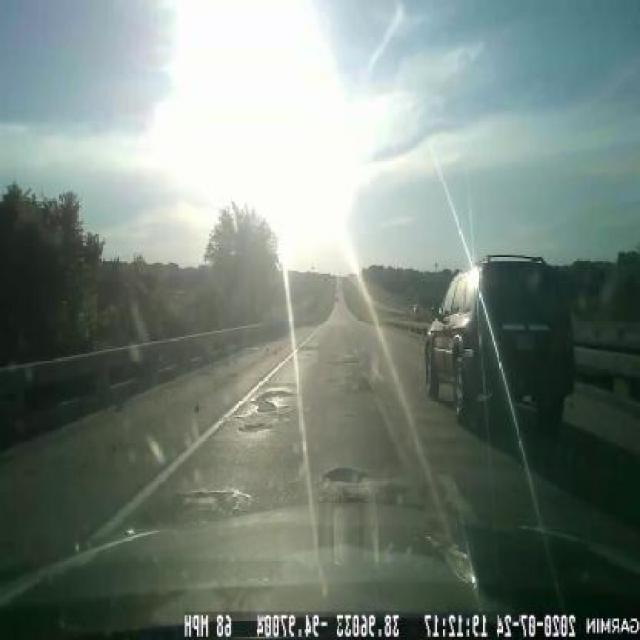pothole: (236, 384, 298, 442), (315, 456, 375, 494)
